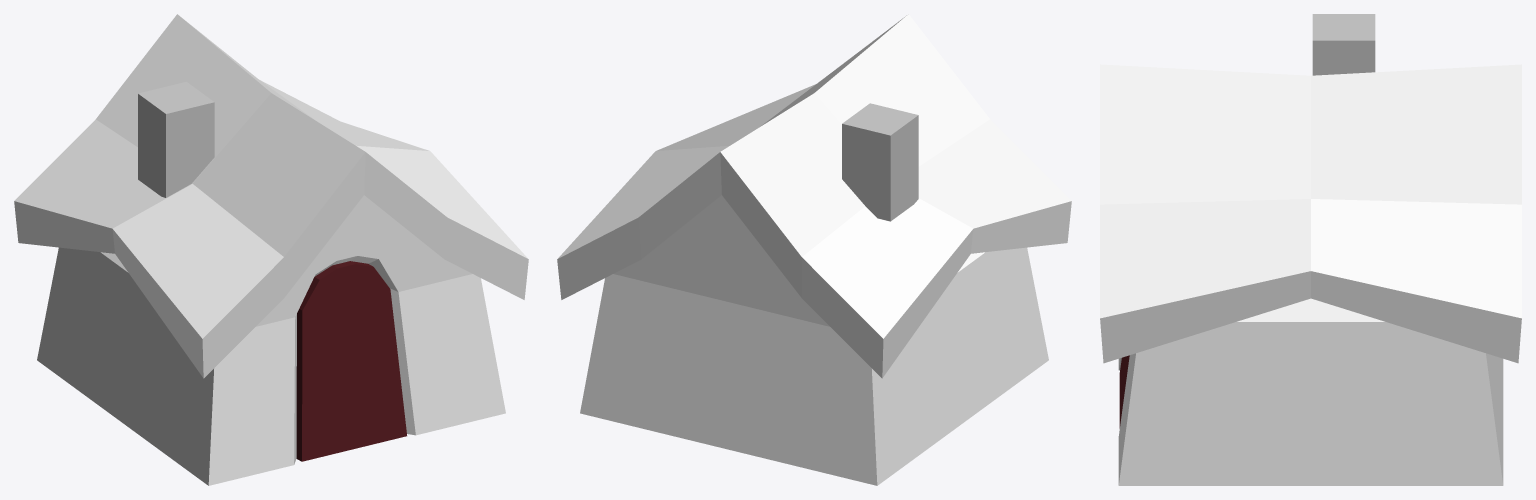
The model's file is housewithTextue.fbx.
3 renders of one model, left to right at view 1: azimuth 30°, elevation 25°; view 2: azimuth 150°, elevation 25°; view 3: azimuth 270°, elevation 25°, orthographic. The views are drawn at different scales.
Visible parts, largest first — view 1: Cube.001, Cube, Cube.002, Cube.003; view 2: Cube, Cube.001, Cube.003; view 3: Cube.001, Cube, Cube.003.
Boxes of the visible parts, bbox=[...] form: Cube.001: bbox=[14, 14, 528, 378]; Cube: bbox=[37, 195, 505, 485]; Cube.002: bbox=[296, 261, 406, 461]; Cube.003: bbox=[138, 82, 214, 197]; Cube: bbox=[580, 195, 1048, 485]; Cube.001: bbox=[557, 14, 1071, 378]; Cube.003: bbox=[842, 103, 918, 221]; Cube.001: bbox=[1100, 64, 1521, 363]; Cube: bbox=[1118, 298, 1503, 485]; Cube.003: bbox=[1312, 14, 1375, 75].
Bounding box in the file's own units: 494 × 440 × 494.
